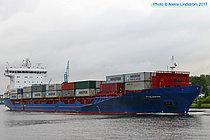Ship: (3, 52, 204, 120)
